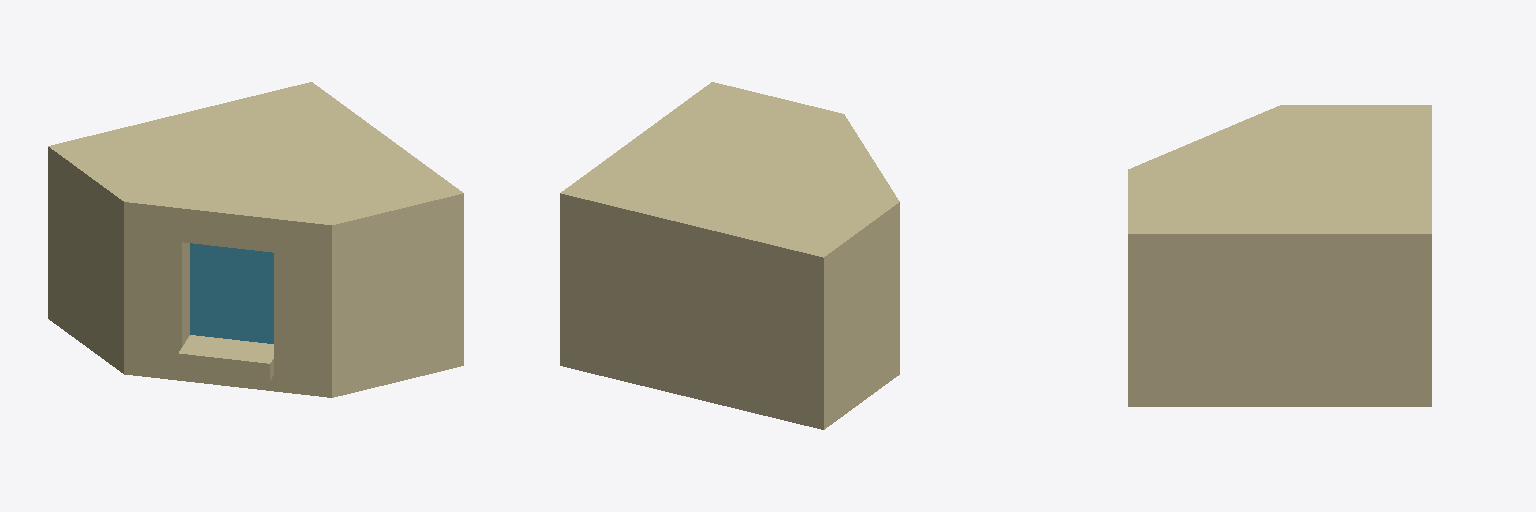
3 views of the same model, side by side, from view 1: azimuth 30°, elevation 25°; view 2: azimuth 150°, elevation 25°; view 3: azimuth 270°, elevation 25° (orthographic).
Parts seen in each view (by area): view 1: G-__555906_G-__555906_Brick, G-__555906_G-__555906_Glass; view 2: G-__555906_G-__555906_Brick; view 3: G-__555906_G-__555906_Brick.
Boxes of the visible parts, <box> form: G-__555906_G-__555906_Brick: <box>48,82,463,397</box>; G-__555906_G-__555906_Glass: <box>190,243,273,343</box>; G-__555906_G-__555906_Brick: <box>560,82,899,429</box>; G-__555906_G-__555906_Brick: <box>1128,105,1431,406</box>.
Bounding box in the file's own units: 1 × 0.625 × 1.